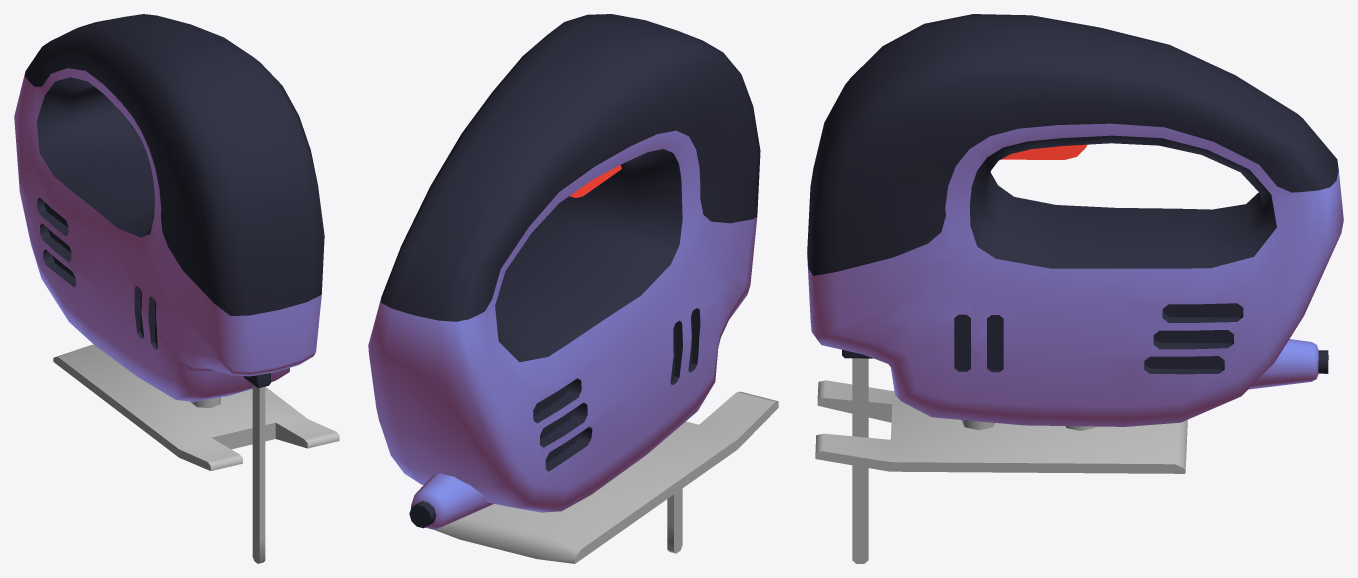
File: fratsaw_1.fbx
3 renders of one model, left to right at view 1: azimuth 30°, elevation 25°; view 2: azimuth 150°, elevation 25°; view 3: azimuth 270°, elevation 25°, orthographic. The views are drawn at different scales.
Parts seen in each view (by area): view 1: fratsew, stand, saw; view 2: fratsew, stand, saw; view 3: fratsew, stand, saw.
Part boxes in pixels (x1,y1,x2,y2): fratsew: (14, 14, 324, 401); stand: (53, 344, 339, 470); saw: (252, 384, 265, 563); fratsew: (368, 14, 760, 529); stand: (435, 391, 778, 563); saw: (667, 488, 682, 553); fratsew: (807, 14, 1343, 426); stand: (815, 380, 1187, 473); saw: (852, 358, 868, 563).
Size of the model in its own units: 34.36 by 116 by 106.
